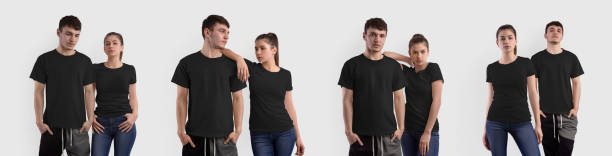without mask: (56, 18, 84, 50), (96, 29, 124, 61), (204, 17, 232, 49), (250, 33, 278, 65), (361, 24, 389, 56), (405, 34, 433, 66), (492, 25, 520, 57), (541, 16, 569, 48)
